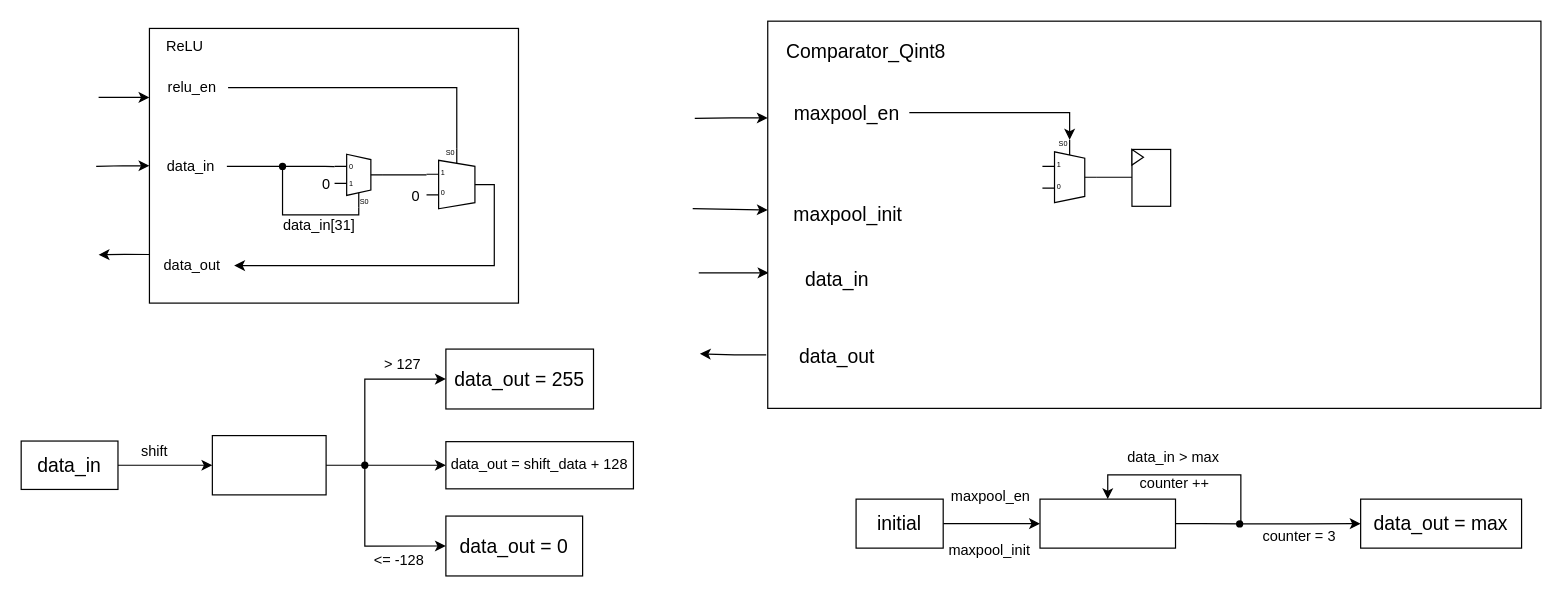
Image size: 1562x598. Some labels were removed from this diagram. The centre of each missing label's shape, as x and y in pixels:
max = data_in: the point at 1107,523
shift_data: the point at 268,464
start: the point at 1151,177
